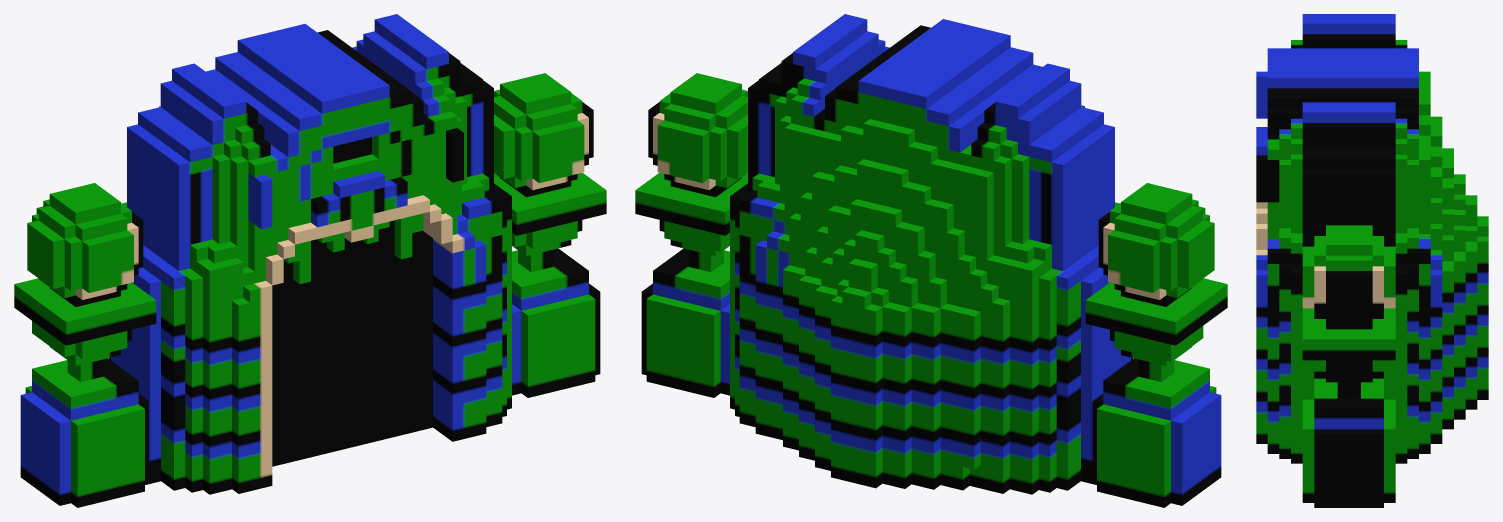
Rendered from TempleEntranceOneEyeGreen.obj.
3 renders of one model, left to right at view 1: azimuth 30°, elevation 25°; view 2: azimuth 150°, elevation 25°; view 3: azimuth 270°, elevation 25°, orthographic. The views are drawn at different scales.
Parts seen in each view (by area): view 1: Matrix; view 2: Matrix; view 3: Matrix.
Part boxes in pixels (x1=…): Matrix: x1=14, y1=14, x2=606, y2=507; Matrix: x1=635, y1=14, x2=1227, y2=507; Matrix: x1=1256, y1=14, x2=1488, y2=507.
Bounding box in the file's own units: 4.8 × 3.1 × 2.
1 material, 1 textured.
